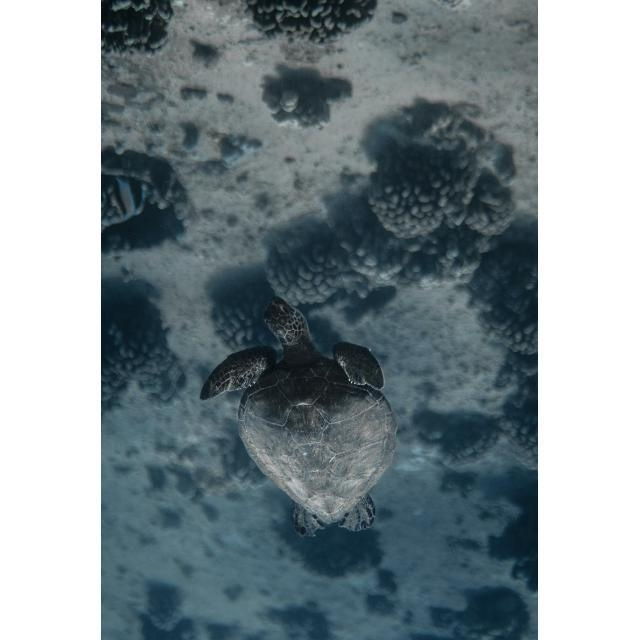turtle: (198, 296, 403, 540)
